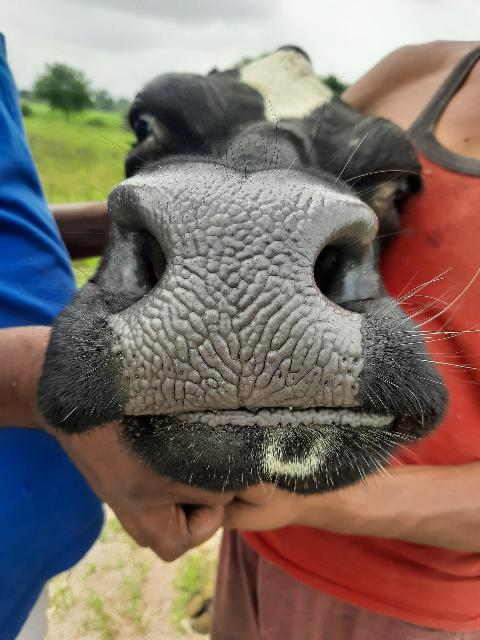Muzzle: (130, 180, 332, 410)
